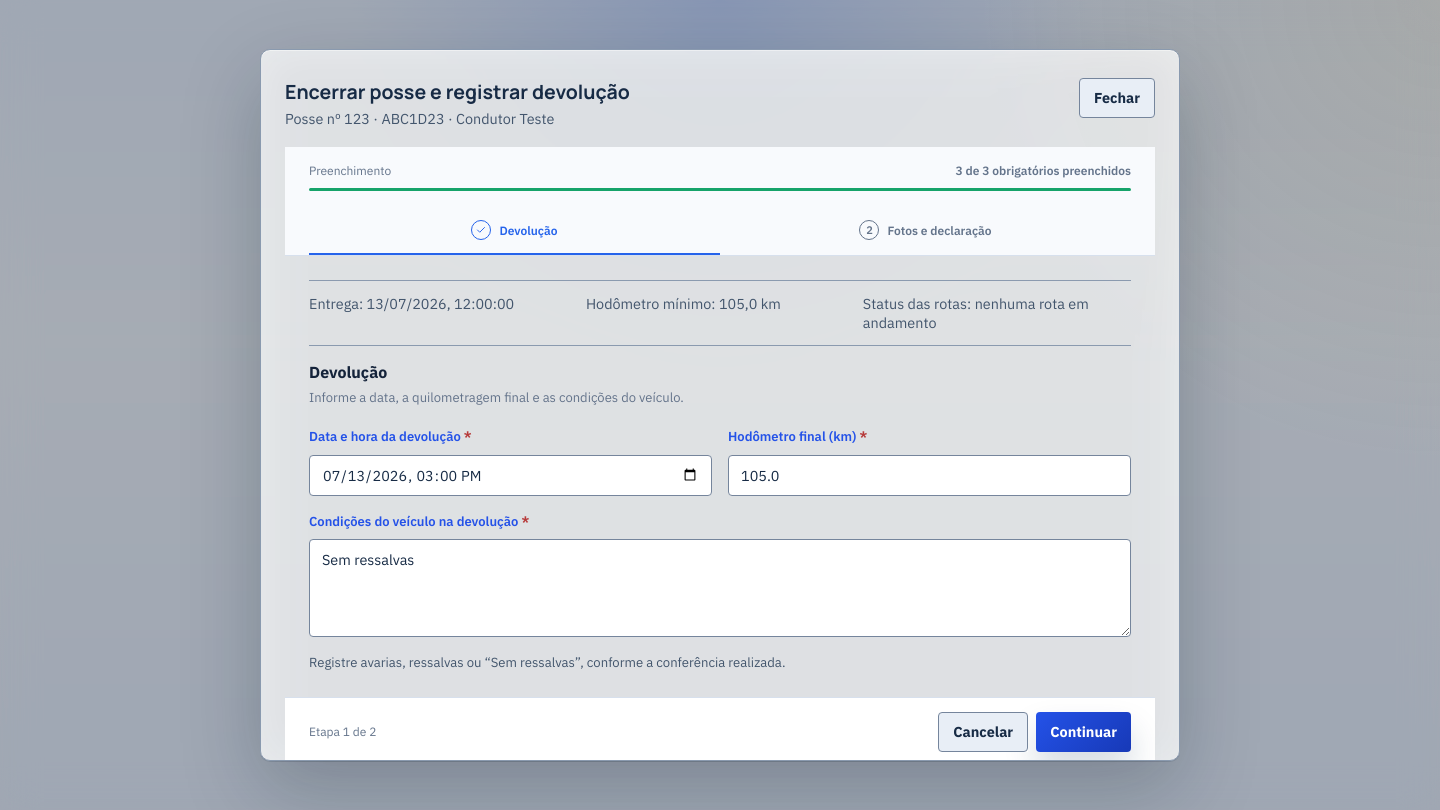
Test: PossessionEndModal › exibe a declaração integral, deixa o aceite desmarcado e bloqueia o envio
Step 1. Click the button "Continuar" → (1084, 732), box [1036,712,1131,752]
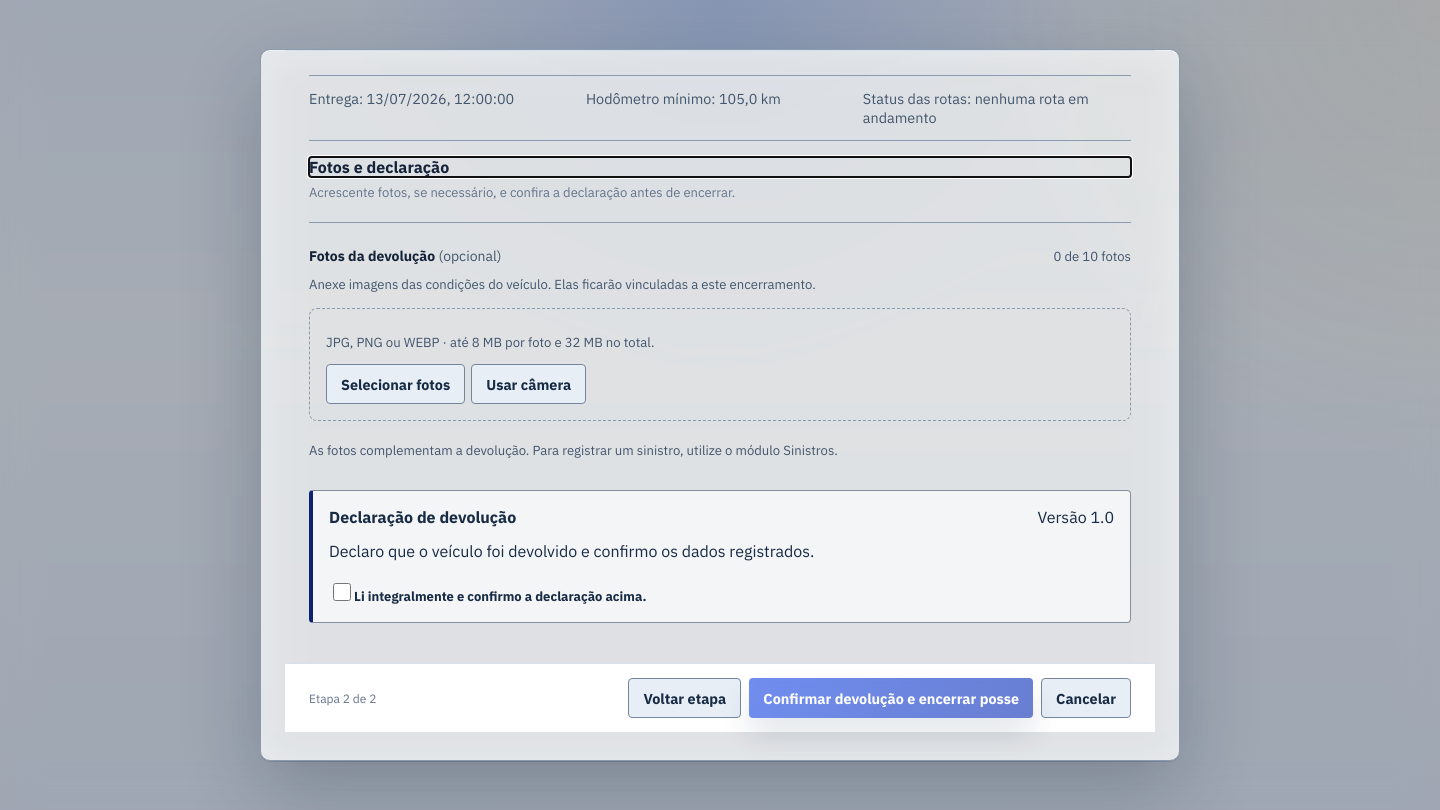
Result: the text "Declaro que o veículo foi devolvido e confirmo os dados registrados." is shown at [329,541,814,561]
Result: the text "Versão 1.0" is shown at [1037,507,1114,527]
Result: the checkbox labelled "Li integralmente e confirmo a declaração acima." is not checked at [333,583,351,601]
